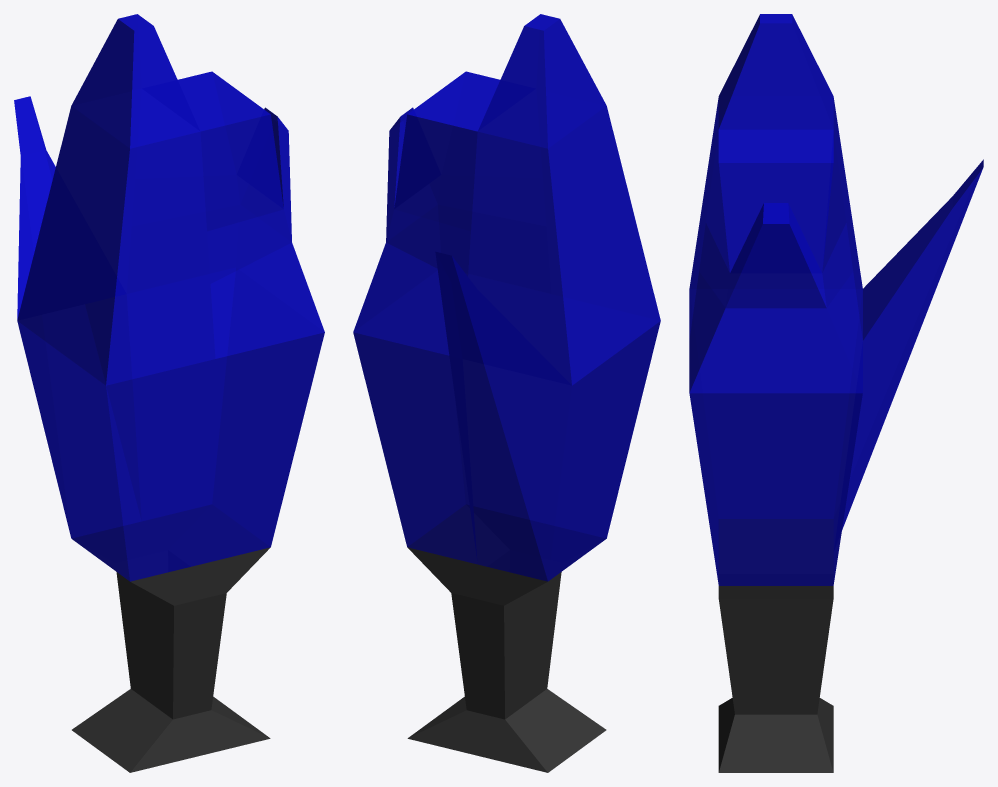
File: trundle-weapon.fbx
3 views of the same model, side by side, from view 1: azimuth 30°, elevation 25°; view 2: azimuth 150°, elevation 25°; view 3: azimuth 270°, elevation 25° (orthographic). The views are drawn at different scales.
Parts seen in each view (by area): view 1: Cube; view 2: Cube; view 3: Cube.
Part boxes in pixels (bbox=[...]): Cube: bbox=[14, 14, 324, 772]; Cube: bbox=[353, 14, 660, 772]; Cube: bbox=[689, 14, 983, 772].
Bounding box in the file's own units: 140 × 437 × 166.
